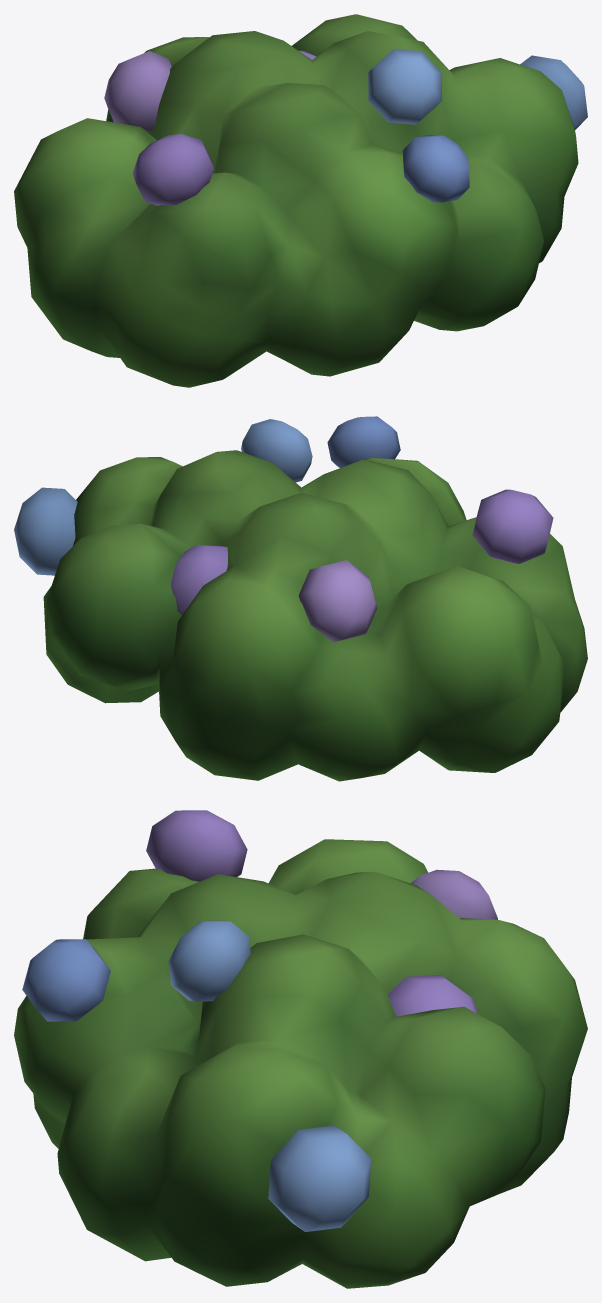
Rendered from bush-b-summer.glb.
3 views of the same model, one above another, from view 1: azimuth 30°, elevation 25°; view 2: azimuth 150°, elevation 25°; view 3: azimuth 270°, elevation 25° (orthographic). The views are drawn at different scales.
Visible parts, largest first — view 1: bush-b-summer; view 2: bush-b-summer; view 3: bush-b-summer.
Boxes of the visible parts, x1,y1,x2,y2 form: bush-b-summer: (14,14,587,387); bush-b-summer: (14,416,587,781); bush-b-summer: (14,810,587,1288).
Size of the model in its own units: 1.44 by 0.6625 by 1.1.
